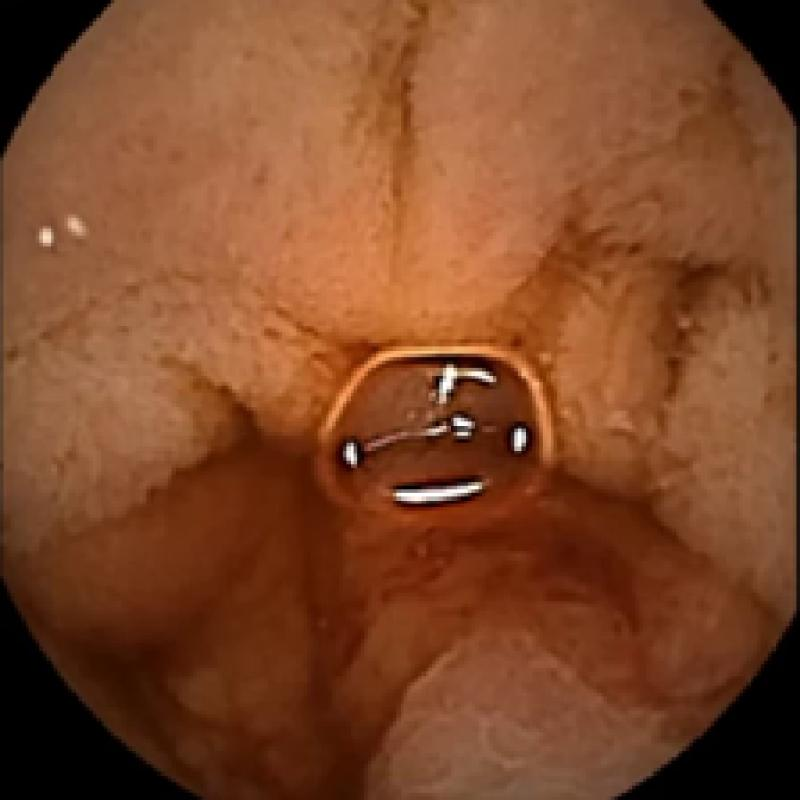bleeding: (118, 339, 650, 693)
